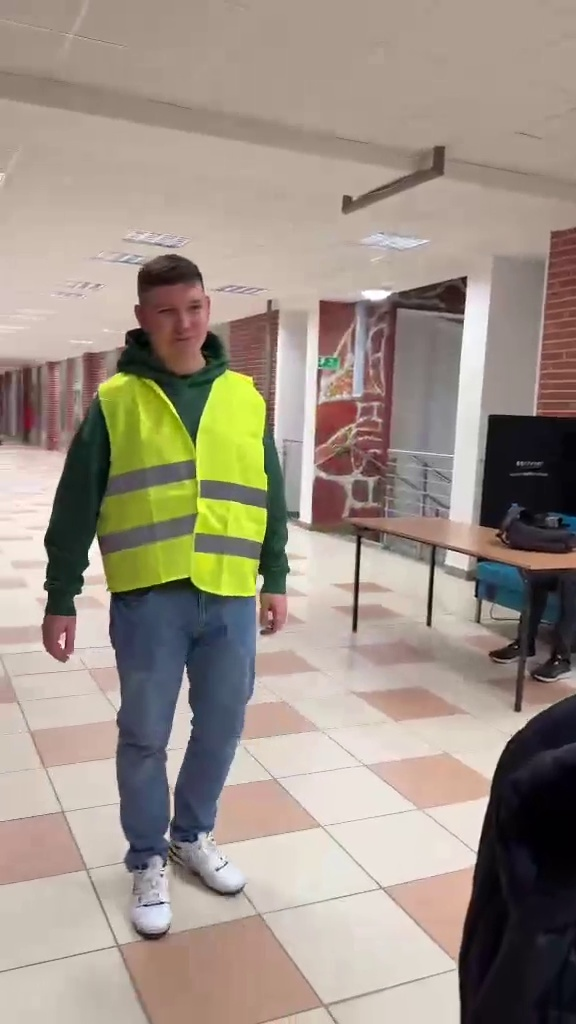vest: (40, 254, 297, 924)
